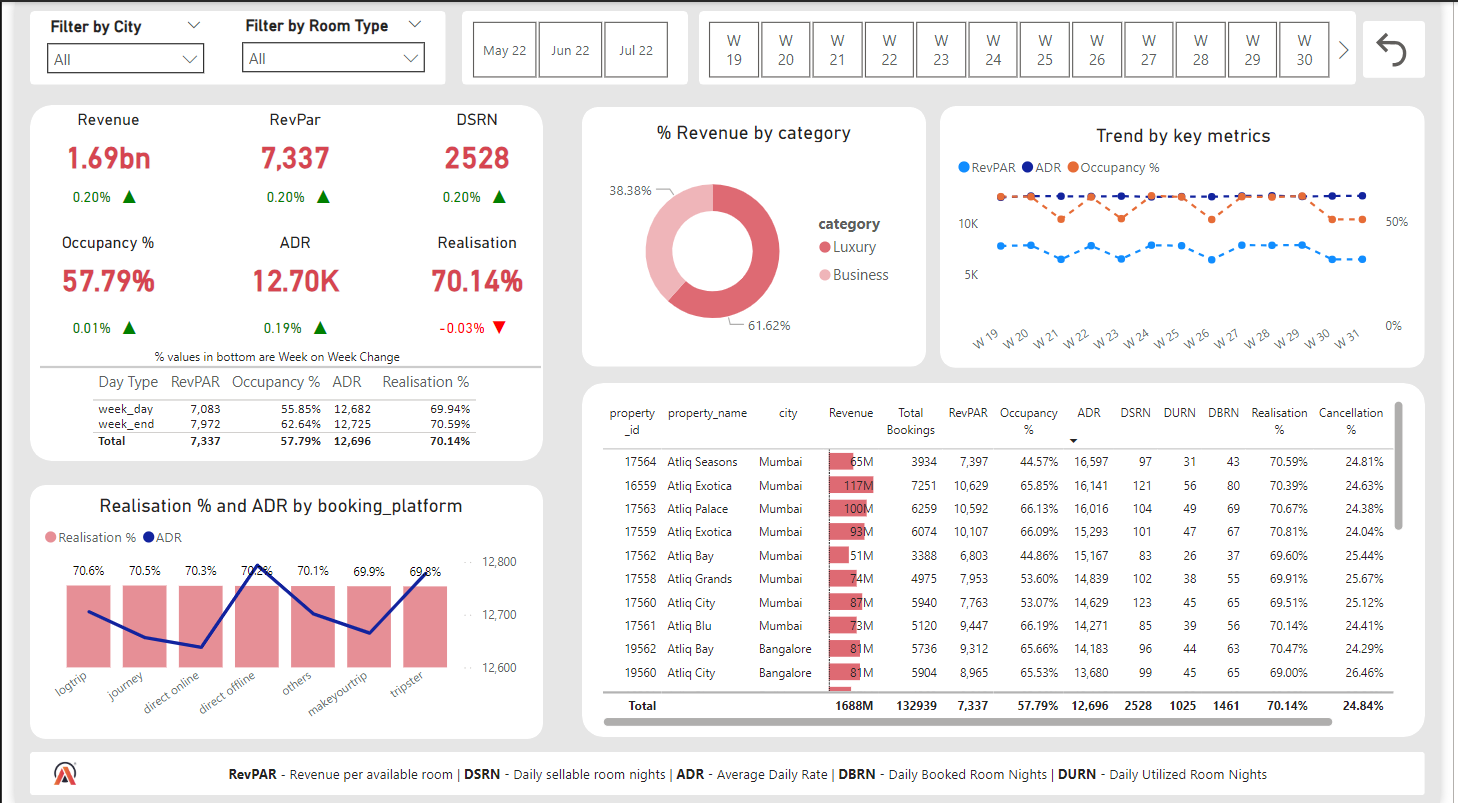

What the dashboard file says about the page in this screenshot:
{"tool":"powerbi","page":{"name":"Dashboard","canvas":[1280,720],"ordinal":0},"visuals":[{"type":"shape","box":[1210.2,17.1,55.7,51.2],"z":0,"group":"g10"},{"type":"shape","box":[830.4,93,435.4,235.2],"z":0,"group":"g1"},{"type":"shape","box":[509,94,308.8,233.4],"z":0,"group":"g7"},{"type":"shape","box":[509,341.7,756.8,317.8],"z":0,"group":"g6"},{"type":"shape","box":[13.4,673.3,1252.4,38.6],"z":0},{"type":"shape","box":[13.2,434,460.5,228],"z":500,"group":"g2"},{"type":"shape","box":[614.1,8.1,589.8,66.4],"z":1000},{"type":"shape","box":[401.3,8.1,202.9,66.4],"z":2000},{"type":"shape","box":[13.2,8.1,373.5,66.4],"z":3000},{"type":"tableEx","fields":{"Values":["dim_hotels.property_id","dim_hotels.property_name","dim_hotels.city","key_measures (2).Revenue","key_measures (2).Total Bookings","key_measures (2).RevPAR","key_measures (2).Occupancy %","key_measures (2).ADR","key_measures (2).DSRN","key_measures (2).DURN","key_measures (2).DBRN","key_measures (2).Realisation %"]},"box":[521.6,352.5,729.9,302.5],"z":3000,"group":"g6"},{"type":"shape","box":[13.2,92.5,460.5,319.6],"z":4000},{"type":"slicer","fields":{"Values":["dim_hotels.city"]},"box":[18.9,9,160.7,64.6],"z":5000},{"type":"slicer","fields":{"Values":["dim_rooms.room_class"]},"box":[193.9,8.1,184,65.5],"z":6000},{"type":"slicer","fields":{"Values":["dim_date.mmm yy"]},"box":[385.1,10.8,225.3,63.7],"z":7000},{"type":"card","title":"Revenue","fields":{"Values":["key_measures (2).Revenue"]},"box":[9,97.8,149.6,65],"z":7000,"group":"g3"},{"type":"card","fields":{"Values":["Icon_Measures.Icon_RevPar"]},"box":[63.8,152.1,77.8,47.2],"z":7000,"group":"g11"},{"type":"card","fields":{"Values":["Icon_Measures.Icon_RevPar"]},"box":[238.4,152.1,77.8,47.2],"z":7000,"group":"g8"},{"type":"card","fields":{"Values":["Icon_Measures.Icon_RevPar"]},"box":[396.1,152.1,77.8,47.2],"z":7000,"group":"g12"},{"type":"card","fields":{"Values":["Icon_Measures.Icon_Occupancy"]},"box":[63.8,270.6,77.8,47.2],"z":7000,"group":"g9"},{"type":"card","fields":{"Values":["Icon_Measures.Icon_ADR"]},"box":[235.4,270.6,77.8,47.2],"z":7000,"group":"g5"},{"type":"card","fields":{"Values":["Icon_Measures.Icon_Realisation"]},"box":[396.1,270.6,77.8,47.2],"z":7000,"group":"g4"},{"type":"slicer","fields":{"Values":["dim_date.week no"]},"box":[597,10.8,606.9,63.7],"z":8000},{"type":"card","title":"RevPar","fields":{"Values":["key_measures (2).RevPAR"]},"box":[179.6,97.8,143.7,65],"z":8000,"group":"g3"},{"type":"card","fields":{"Values":["key_measures (2).Revpar WoW change %"]},"box":[34.9,158.3,67.8,34.7],"z":8000,"group":"g11"},{"type":"card","fields":{"Values":["key_measures (2).Revpar WoW change %"]},"box":[209.5,158.3,67.8,34.7],"z":8000,"group":"g8"},{"type":"card","fields":{"Values":["key_measures (2).Revpar WoW change %"]},"box":[367.2,158.3,67.8,34.7],"z":8000,"group":"g12"},{"type":"card","fields":{"Values":["key_measures (2).Occupancy WoW change %"]},"box":[34.9,276.8,67.8,34.7],"z":8000,"group":"g9"},{"type":"card","fields":{"Values":["key_measures (2).ADR WoW change %"]},"box":[206.5,276.8,67.8,34.7],"z":8000,"group":"g5"},{"type":"card","fields":{"Values":["key_measures (2).Realisation WoW change %"]},"box":[367.2,276.8,67.8,34.7],"z":8000,"group":"g4"},{"type":"card","title":"DSRN","fields":{"Values":["key_measures (2).DSRN"]},"box":[343.2,97.8,143.7,65],"z":9000,"group":"g3"},{"type":"donutChart","title":"% Revenue by category","fields":{"Category":["dim_hotels.category"],"Y":["key_measures (2).Revenue"]},"box":[526.2,106.6,274.1,214.7],"z":9000,"group":"g7"},{"type":"tableEx","fields":{"Values":["dim_date.data_type","key_measures (2).RevPAR","key_measures (2).Occupancy %","key_measures (2).ADR","key_measures (2).Realisation %"]},"box":[63.7,326.7,385.1,80.8],"z":9000},{"type":"card","title":"Realisation","fields":{"Values":["key_measures (2).Realisation %"]},"box":[343.2,208.2,143.7,65],"z":10000,"group":"g3"},{"type":"shape","box":[22.4,318.7,449.8,18],"z":10000},{"type":"group","id":"g1","title":"Group 2","box":[830.4,93,435.4,235.2],"z":11000},{"type":"card","title":"Occupancy %","fields":{"Values":["key_measures (2).Occupancy %"]},"box":[12,208.2,143.7,65],"z":11000,"group":"g3"},{"type":"card","title":"ADR","fields":{"Values":["key_measures (2).ADR"]},"box":[179.6,208.2,143.7,65],"z":12000,"group":"g3"},{"type":"group","id":"g2","title":"Group 3","box":[13.2,434,460.5,228],"z":12000},{"type":"group","id":"g3","title":"Group 4","box":[9,97.8,477.9,220],"z":13000},{"type":"group","id":"g4","title":"Group 1","box":[367.2,270.6,106.7,47.2],"z":13000,"group":"g3"},{"type":"group","id":"g5","title":"Group 1","box":[206.5,270.6,106.7,47.2],"z":14000,"group":"g3"},{"type":"group","id":"g6","title":"Group 5","box":[509,341.7,756.8,317.8],"z":14000},{"type":"actionButton","box":[1215.6,22.5,50.3,40.4],"z":15000,"group":"g10"},{"type":"group","id":"g7","title":"Group 6","box":[509,94,308.8,233.4],"z":15000},{"type":"group","id":"g8","title":"Group 1","box":[209.5,152.1,106.7,47.2],"z":15000,"group":"g3"},{"type":"group","id":"g9","title":"Group 1","box":[34.9,270.6,106.7,47.2],"z":16000,"group":"g3"},{"type":"textbox","box":[120.3,303.4,307.9,33.2],"z":16000},{"type":"group","id":"g10","title":"Group 7","box":[1210.2,17.1,55.7,51.2],"z":17000},{"type":"group","id":"g11","title":"Group 1","box":[34.9,152.1,106.7,47.2],"z":17000,"group":"g3"},{"type":"group","id":"g12","title":"Group 1","box":[367.2,152.1,106.7,47.2],"z":18000,"group":"g3"},{"type":"textbox","box":[109.5,678.7,1093.5,30.5],"z":18000},{"type":"image","box":[11.7,676.9,67.3,30.5],"z":19000},{"type":"lineStackedColumnComboChart","fields":{"Category":["fact_bookings.booking_platform"],"Y":["key_measures (2).Realisation %"],"Y2":["key_measures (2).ADR"]},"box":[24,442.1,440.8,213.7],"z":22000,"group":"g2"},{"type":"lineChart","title":"Trend by key metrics","fields":{"Category":["dim_date.mmm yy.Variation.Date Hierarchy.Month","dim_date.week no"],"Y":["key_measures (2).RevPAR","key_measures (2).ADR"],"Y2":["key_measures (2).Occupancy %"]},"box":[840.9,108.9,415.2,214.7],"z":23000,"group":"g1"}]}

Visuals, with their boxes in screenshot pixels (x1, y1, x2, y2), scaled from the page's 1280x720 canvas onto the 1458x803 screenshot:
shape: (left=1378, top=19, right=1442, bottom=76)
shape: (left=946, top=104, right=1442, bottom=366)
shape: (left=580, top=105, right=932, bottom=365)
shape: (left=580, top=381, right=1442, bottom=736)
shape: (left=15, top=751, right=1442, bottom=794)
shape: (left=15, top=484, right=540, bottom=738)
shape: (left=699, top=9, right=1371, bottom=83)
shape: (left=457, top=9, right=688, bottom=83)
shape: (left=15, top=9, right=440, bottom=83)
tableEx - dim_hotels.property_id x dim_hotels.property_name: (left=594, top=393, right=1426, bottom=731)
shape: (left=15, top=103, right=540, bottom=460)
slicer - dim_hotels.city: (left=22, top=10, right=205, bottom=82)
slicer - dim_rooms.room_class: (left=221, top=9, right=430, bottom=82)
slicer - dim_date.mmm yy: (left=439, top=12, right=695, bottom=83)
"Revenue" card: (left=10, top=109, right=181, bottom=182)
card - Icon_Measures.Icon_RevPar: (left=73, top=170, right=161, bottom=222)
card - Icon_Measures.Icon_RevPar: (left=272, top=170, right=360, bottom=222)
card - Icon_Measures.Icon_RevPar: (left=451, top=170, right=540, bottom=222)
card - Icon_Measures.Icon_Occupancy: (left=73, top=302, right=161, bottom=354)
card - Icon_Measures.Icon_ADR: (left=268, top=302, right=357, bottom=354)
card - Icon_Measures.Icon_Realisation: (left=451, top=302, right=540, bottom=354)
slicer - dim_date.week no: (left=680, top=12, right=1371, bottom=83)
"RevPar" card: (left=205, top=109, right=368, bottom=182)
card - key_measures (2).Revpar WoW change %: (left=40, top=177, right=117, bottom=215)
card - key_measures (2).Revpar WoW change %: (left=239, top=177, right=316, bottom=215)
card - key_measures (2).Revpar WoW change %: (left=418, top=177, right=495, bottom=215)
card - key_measures (2).Occupancy WoW change %: (left=40, top=309, right=117, bottom=347)
card - key_measures (2).ADR WoW change %: (left=235, top=309, right=312, bottom=347)
card - key_measures (2).Realisation WoW change %: (left=418, top=309, right=495, bottom=347)
"DSRN" card: (left=391, top=109, right=555, bottom=182)
"% Revenue by category" donutChart: (left=599, top=119, right=912, bottom=358)
tableEx - dim_date.data_type x key_measures (2).RevPAR: (left=73, top=364, right=511, bottom=454)
"Realisation" card: (left=391, top=232, right=555, bottom=305)
shape: (left=26, top=355, right=538, bottom=376)
"Group 2" group: (left=946, top=104, right=1442, bottom=366)
"Occupancy %" card: (left=14, top=232, right=177, bottom=305)
"ADR" card: (left=205, top=232, right=368, bottom=305)
"Group 3" group: (left=15, top=484, right=540, bottom=738)
"Group 4" group: (left=10, top=109, right=555, bottom=354)
"Group 1" group: (left=418, top=302, right=540, bottom=354)
"Group 1" group: (left=235, top=302, right=357, bottom=354)
"Group 5" group: (left=580, top=381, right=1442, bottom=736)
actionButton: (left=1385, top=25, right=1442, bottom=70)
"Group 6" group: (left=580, top=105, right=932, bottom=365)
"Group 1" group: (left=239, top=170, right=360, bottom=222)
"Group 1" group: (left=40, top=302, right=161, bottom=354)
textbox: (left=137, top=338, right=488, bottom=375)
"Group 7" group: (left=1378, top=19, right=1442, bottom=76)
"Group 1" group: (left=40, top=170, right=161, bottom=222)
"Group 1" group: (left=418, top=170, right=540, bottom=222)
textbox: (left=125, top=757, right=1370, bottom=791)
image: (left=13, top=755, right=90, bottom=789)
lineStackedColumnComboChart - fact_bookings.booking_platform x key_measures (2).Realisation %: (left=27, top=493, right=529, bottom=731)
"Trend by key metrics" lineChart: (left=958, top=121, right=1431, bottom=361)
